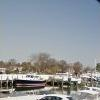Boat: (8, 70, 58, 96)
